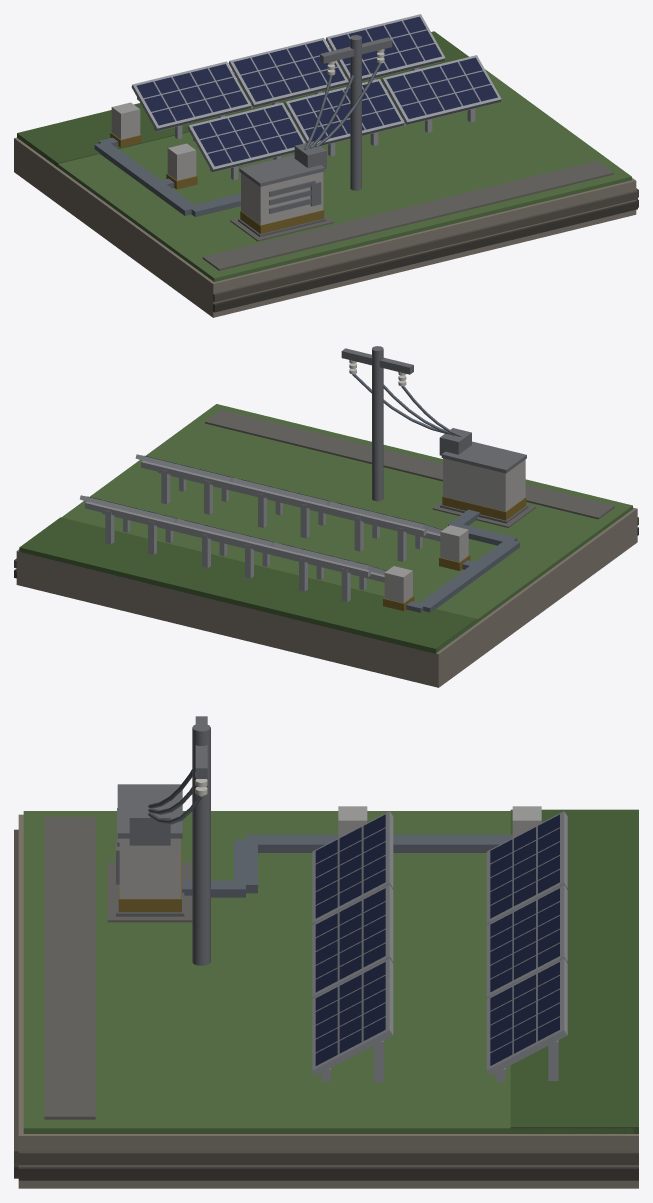
The model's file is solar_farm_lvl1.glb.
The picture shows the model from 3 angles, top to bottom: view 1: azimuth 30°, elevation 25°; view 2: azimuth 150°, elevation 25°; view 3: azimuth 270°, elevation 25°; orthographic projection. The views are drawn at different scales.
Visible parts, largest first — view 1: solar_farm; view 2: solar_farm; view 3: solar_farm.
Part boxes in pixels (x1,y1,x2,y2): solar_farm: (14, 14, 638, 317); solar_farm: (14, 346, 638, 687); solar_farm: (14, 716, 638, 1188).
Bounding box in the file's own units: 0.6389 × 0.2697 × 0.5216.
